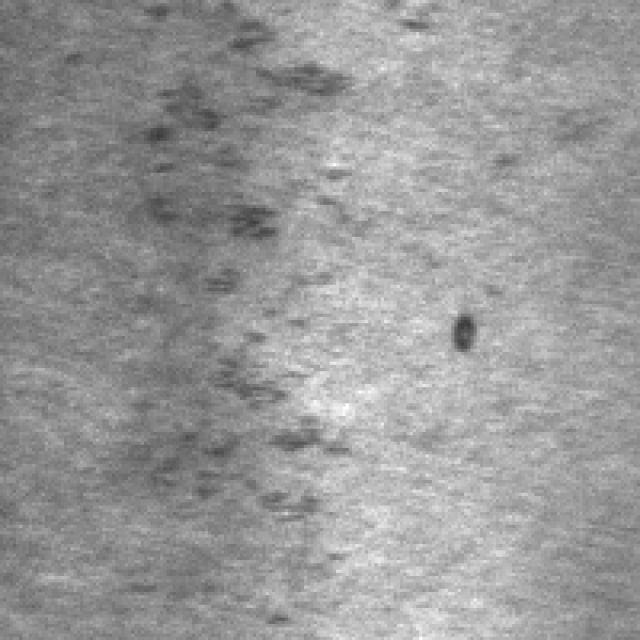rolled-in_scale: (150, 26, 368, 515)
